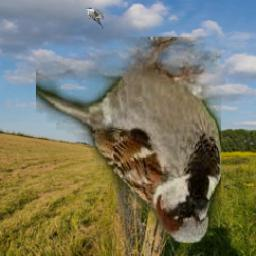Cuckoo: (85, 7, 104, 29)
Sparrow: (37, 38, 222, 244)
